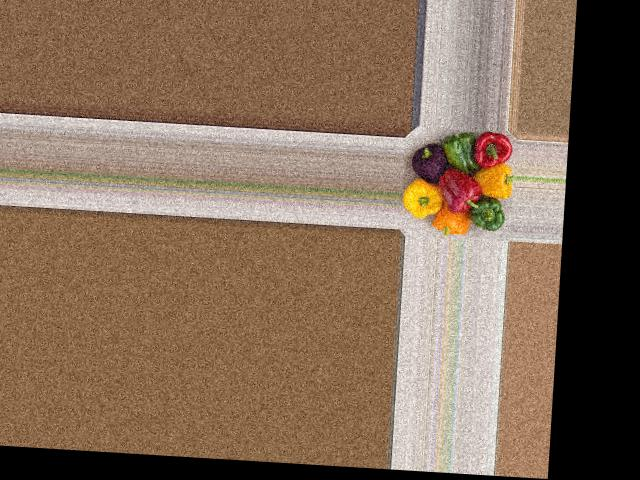bell_pepper: (411, 132, 457, 185)
